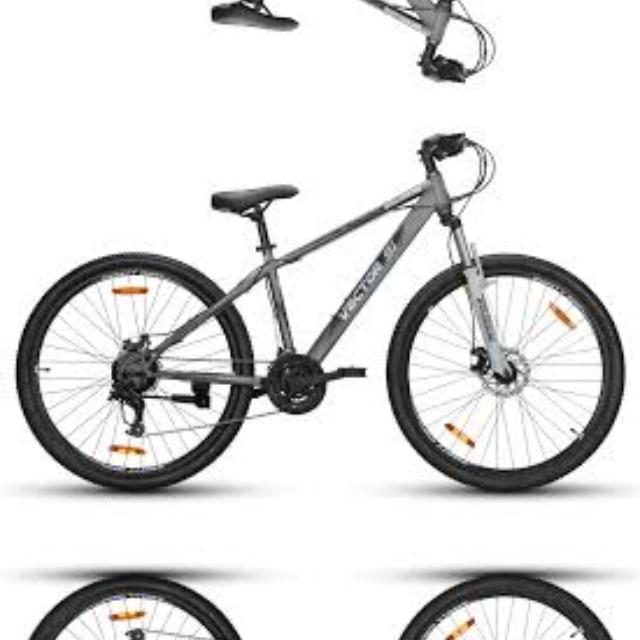obstacle: (4, 122, 632, 510), (4, 0, 632, 92), (4, 555, 632, 640)
